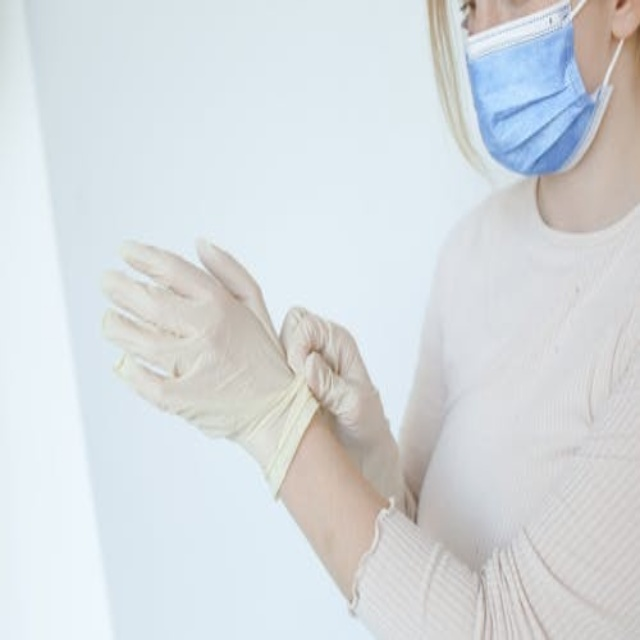Guantes: (95, 209, 311, 496), (273, 302, 404, 507)
Mascara: (462, 0, 618, 177)
